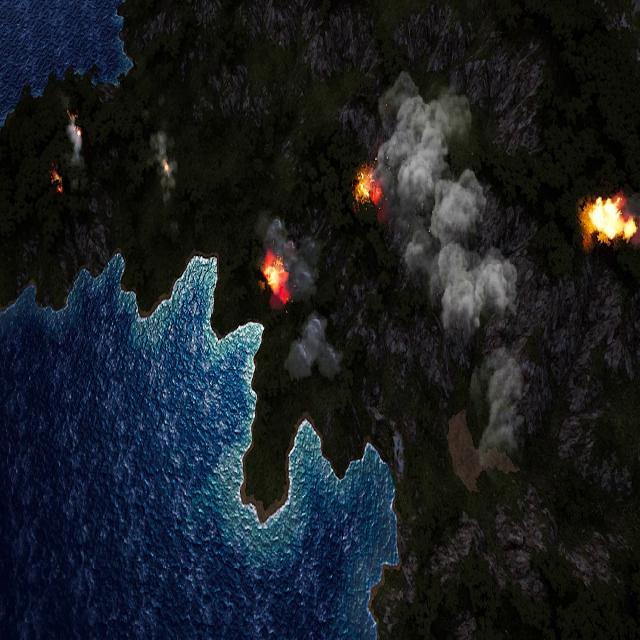fire: (587, 194, 639, 244), (354, 166, 381, 210), (263, 253, 289, 298), (52, 166, 65, 192), (162, 158, 171, 176)
smoke: (372, 76, 534, 471), (260, 210, 344, 378), (149, 121, 176, 204), (67, 119, 86, 168)
